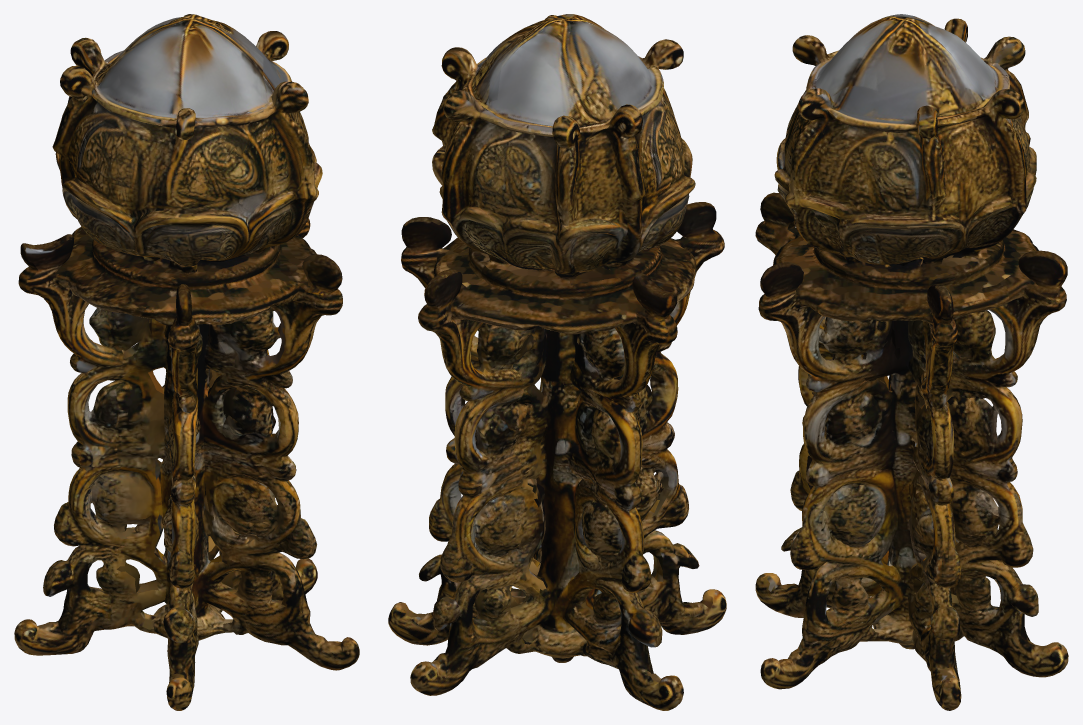
The picture shows the model from 3 angles, left to right: view 1: azimuth 30°, elevation 25°; view 2: azimuth 150°, elevation 25°; view 3: azimuth 270°, elevation 25°; orthographic projection.
Parts seen in each view (by area): view 1: textured_mesh; view 2: textured_mesh; view 3: textured_mesh.
Boxes of the visible parts, box(x1,y1,x2,y2) form: textured_mesh: box(14, 14, 359, 710); textured_mesh: box(388, 14, 726, 710); textured_mesh: box(755, 14, 1068, 710).
Size of the model in its own units: 0.9759 by 1.99 by 0.8991.
1 material, 1 textured.
